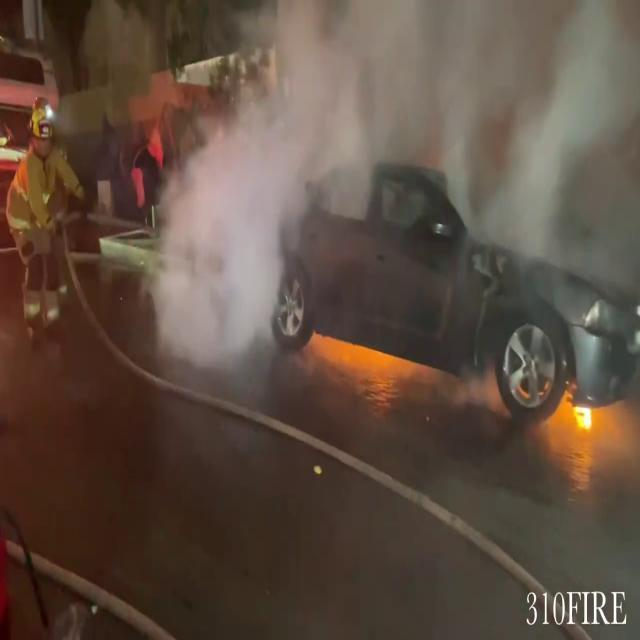Fire: (562, 387, 600, 439)
Smoke: (150, 0, 640, 343), (502, 0, 640, 366)
